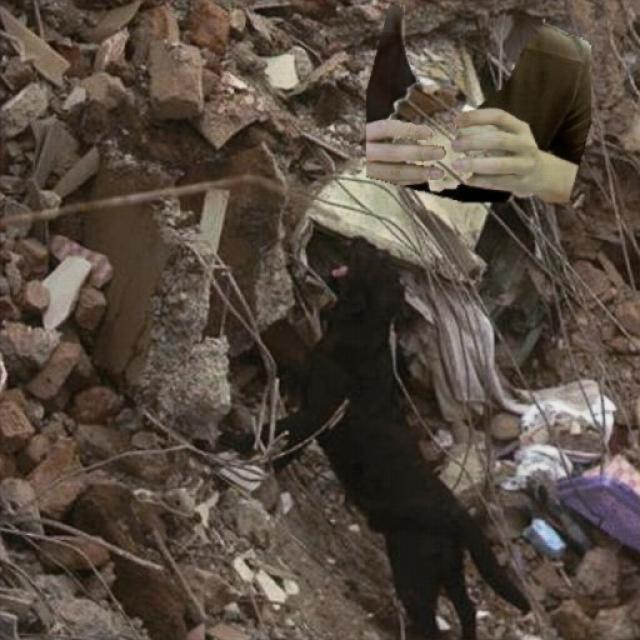Person in Rubble: (366, 5, 590, 201)
